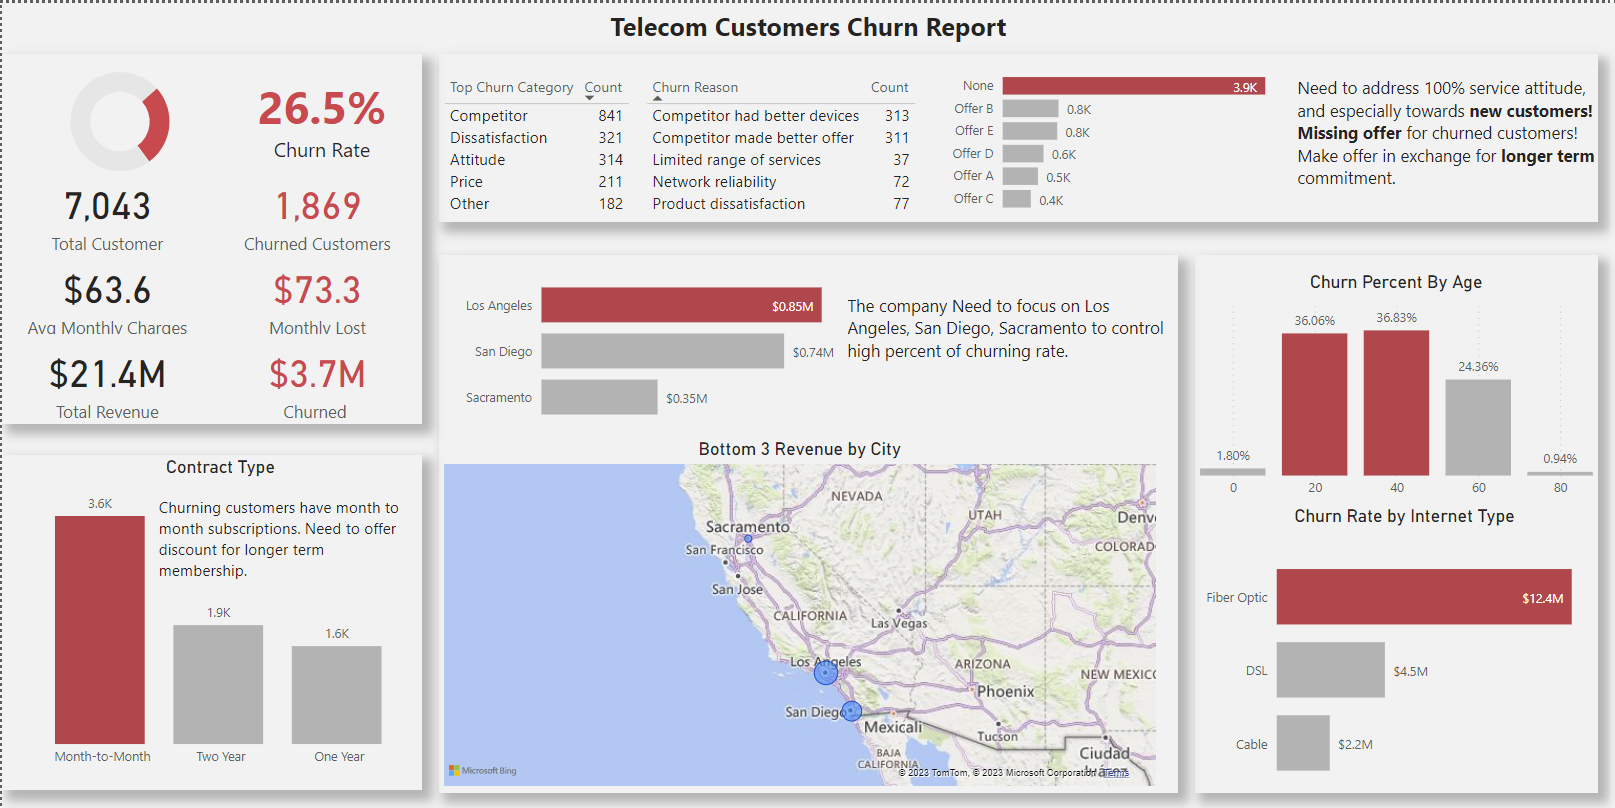

This screenshot's page, from the dashboard's own definition file:
{"tool":"powerbi","page":{"name":"Dashboard","canvas":[1537,767],"ordinal":7},"visuals":[{"type":"shape","box":[0,48,400,352],"z":0},{"type":"donutChart","fields":{"Category":["telecom_customer_churn.Customer Status"],"Y":["Count(telecom_customer_churn.Customer ID)"]},"box":[0,48,224,128],"z":1000},{"type":"shape","box":[416,240,704,512],"z":2000},{"type":"card","fields":{"Values":["telecom_customer_churn.CustomerCount"]},"box":[0,160,200,80],"z":3000},{"type":"shape","box":[0,430,400,320],"z":4000},{"type":"card","fields":{"Values":["CountNonNull(telecom_customer_churn.Customer ID)"]},"box":[200,160,200,80],"z":5000},{"type":"shape","box":[416,48,1104,160],"z":6000},{"type":"card","fields":{"Values":["telecom_customer_churn.AvgMonthly Charges"]},"box":[0,240,200,80],"z":7000},{"type":"card","fields":{"Values":["telecom_customer_churn.Sum Total Revenue"]},"box":[0,320,200,80],"z":8000},{"type":"shape","box":[1136,240,384,512],"z":9000},{"type":"card","fields":{"Values":["Sum(telecom_customer_churn.Total Revenue)"]},"box":[200,320,200,80],"z":10000},{"type":"columnChart","title":"Contract Type","fields":{"Category":["telecom_customer_churn.Contract"],"Y":["CountNonNull(telecom_customer_churn.Customer ID)"]},"box":[0,432,416,304],"z":11000},{"type":"card","fields":{"Values":["telecom_customer_churn.AvgMonthly Charges"]},"box":[200,240,200,80],"z":12000},{"type":"tableEx","fields":{"Values":["telecom_customer_churn.Churn Category","telecom_customer_churn.Customer ID"]},"box":[416,64,208,176],"z":13000},{"type":"textbox","box":[208,64,192,96],"z":14000},{"type":"tableEx","fields":{"Values":["telecom_customer_churn.Churn Reason","telecom_customer_churn.Customer ID"]},"box":[608,64,272,144],"z":15000},{"type":"textbox","box":[1229,64,304,144],"z":16000},{"type":"barChart","fields":{"Category":["telecom_customer_churn.Offer"],"Y":["CountNonNull(telecom_customer_churn.Customer ID)"]},"box":[896,48,320,160],"z":17000},{"type":"barChart","fields":{"Category":["telecom_customer_churn.City"],"Y":["Sum(telecom_customer_churn.Total Revenue)"]},"box":[432,240,400,176],"z":18000},{"type":"map","title":"Bottom 3 Revenue by City","fields":{"Category":["telecom_customer_churn.City"],"Size":["Sum(telecom_customer_churn.Total Revenue)"]},"box":[416,414,688,336],"z":19000},{"type":"clusteredColumnChart","title":" Churn Percent By Age ","fields":{"Category":["telecom_customer_churn.Age (bins)"],"Y":["CountNonNull(telecom_customer_churn.Churn Category)"]},"box":[1136,256,384,224],"z":20000},{"type":"textbox","box":[144,464,256,144],"z":21000},{"type":"textbox","box":[800,272,320,96],"z":22000},{"type":"barChart","title":"Churn Rate  by Internet Type","fields":{"Category":["telecom_customer_churn.Internet Type"],"Y":["Sum(telecom_customer_churn.Total Revenue)"]},"box":[1136,479,400,288],"z":23000},{"type":"textbox","box":[0,0,1536,64],"z":24000}]}

Visuals, with their boxes in screenshot pixels (x1, y1, x2, y2), scaled from the page's 1537x767 canvas onto the 1615x808 screenshot:
shape: l=0, t=51, r=420, b=421
donutChart - telecom_customer_churn.Customer Status x Count(telecom_customer_churn.Customer ID): l=0, t=51, r=235, b=185
shape: l=437, t=253, r=1177, b=792
card - telecom_customer_churn.CustomerCount: l=0, t=169, r=210, b=253
shape: l=0, t=453, r=420, b=790
card - CountNonNull(telecom_customer_churn.Customer ID): l=210, t=169, r=420, b=253
shape: l=437, t=51, r=1597, b=219
card - telecom_customer_churn.AvgMonthly Charges: l=0, t=253, r=210, b=337
card - telecom_customer_churn.Sum Total Revenue: l=0, t=337, r=210, b=421
shape: l=1194, t=253, r=1597, b=792
card - Sum(telecom_customer_churn.Total Revenue): l=210, t=337, r=420, b=421
"Contract Type" columnChart: l=0, t=455, r=437, b=775
card - telecom_customer_churn.AvgMonthly Charges: l=210, t=253, r=420, b=337
tableEx - telecom_customer_churn.Churn Category x telecom_customer_churn.Customer ID: l=437, t=67, r=656, b=253
textbox: l=219, t=67, r=420, b=169
tableEx - telecom_customer_churn.Churn Reason x telecom_customer_churn.Customer ID: l=639, t=67, r=925, b=219
textbox: l=1291, t=67, r=1611, b=219
barChart - telecom_customer_churn.Offer x CountNonNull(telecom_customer_churn.Customer ID): l=941, t=51, r=1278, b=219
barChart - telecom_customer_churn.City x Sum(telecom_customer_churn.Total Revenue): l=454, t=253, r=874, b=438
"Bottom 3 Revenue by City" map: l=437, t=436, r=1160, b=790
" Churn Percent By Age " clusteredColumnChart: l=1194, t=270, r=1597, b=506
textbox: l=151, t=489, r=420, b=641
textbox: l=841, t=287, r=1177, b=388
"Churn Rate  by Internet Type" barChart: l=1194, t=505, r=1614, b=807
textbox: l=0, t=0, r=1614, b=67
